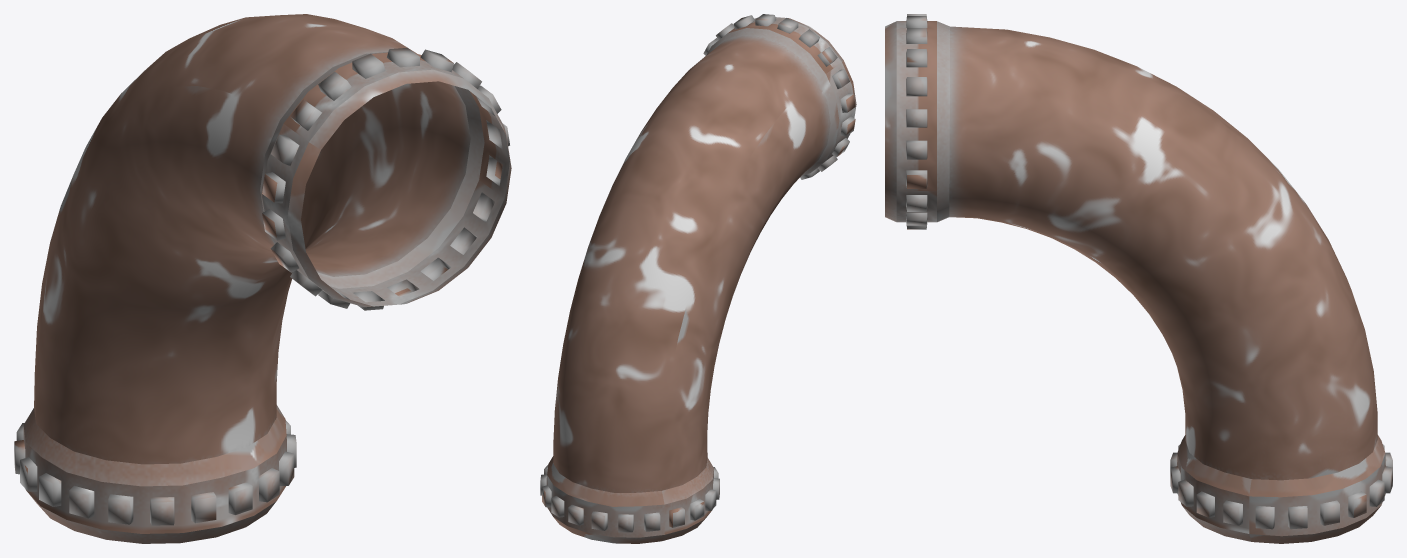
The model's file is pipe 1.fbx.
The picture shows the model from 3 angles, left to right: view 1: azimuth 30°, elevation 25°; view 2: azimuth 150°, elevation 25°; view 3: azimuth 270°, elevation 25°; orthographic projection. The views are drawn at different scales.
Visible parts, largest first — view 1: Curved Pipe; view 2: Curved Pipe; view 3: Curved Pipe.
Boxes of the visible parts, bbox=[...] form: Curved Pipe: bbox=[14, 14, 511, 543]; Curved Pipe: bbox=[540, 14, 856, 543]; Curved Pipe: bbox=[885, 14, 1392, 543].
Bounding box in the file's own units: 26.97 × 63.95 × 61.45.
1 material, 1 textured.
